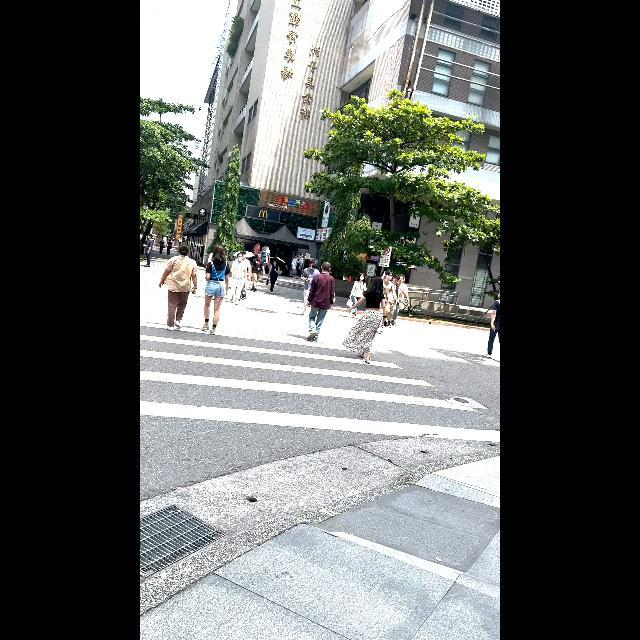sidewalk: (140, 326, 495, 506)
